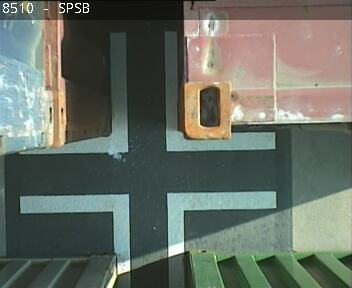groundmarker_1: (18, 29, 274, 151), (19, 190, 275, 288)
